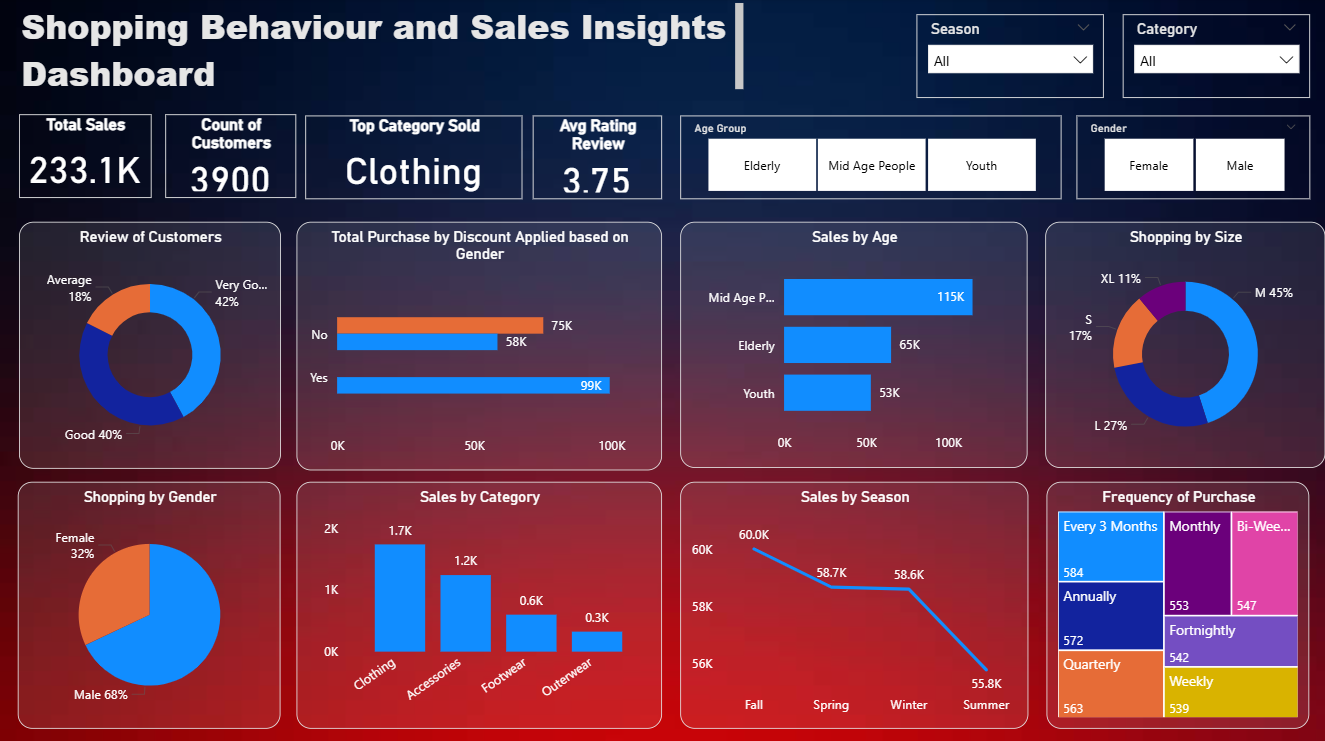

The dashboard page shown, as its layout file describes it:
{"tool":"powerbi","page":{"name":"Page 1","canvas":[1280,720],"ordinal":0},"visuals":[{"type":"pieChart","title":"Shopping by Gender","fields":{"Category":["shopping_behavior.Gender"],"Y":["CountNonNull(shopping_behavior.Customer ID)"]},"box":[17.8,466.6,253.9,238.8],"z":0},{"type":"columnChart","title":"Sales by Category","fields":{"Category":["shopping_behavior.Category"],"Y":["CountNonNull(shopping_behavior.Purchase Amount (USD))"]},"box":[286.8,466.6,352.7,238.8],"z":1000},{"type":"lineChart","title":"Sales by Season","fields":{"Category":["shopping_behavior.Season"],"Y":["Sum(shopping_behavior.Purchase Amount (USD))"]},"box":[657.3,466.6,336.2,238.8],"z":2000},{"type":"donutChart","title":"Review of Customers","fields":{"Category":["shopping_behavior.Review Group"],"Y":["CountNonNull(shopping_behavior.Customer ID)"]},"box":[19.2,215.4,252.5,238.8],"z":3000},{"type":"barChart","title":"Sales by Age","fields":{"Category":["shopping_behavior.Age Group"],"Y":["Sum(shopping_behavior.Purchase Amount (USD))"]},"box":[657.5,216,335.4,237.7],"z":4000},{"type":"slicer","fields":{"Values":["shopping_behavior.Category"]},"box":[1084.1,15.1,181.1,81],"z":5000},{"type":"slicer","fields":{"Values":["shopping_behavior.Gender"]},"box":[1040,113.4,225.6,80.8],"z":6000},{"type":"slicer","fields":{"Values":["shopping_behavior.Age Group"]},"box":[657.3,113.9,367.8,81],"z":7000},{"type":"card","title":"Count of Customers","fields":{"Values":["Count(shopping_behavior.Customer ID)"]},"box":[160.5,112.5,126.2,81],"z":8000},{"type":"card","title":"Total Sales","fields":{"Values":["Sum(shopping_behavior.Purchase Amount (USD))"]},"box":[19.2,112.5,127.6,81],"z":9000},{"type":"card","title":"Avg Rating Review","fields":{"Values":["Avg(shopping_behavior.Review Rating)"]},"box":[514.6,113.9,124.9,81],"z":10000},{"type":"card","title":"Top Category Sold","fields":{"Values":["shopping_behavior.Top Category"]},"box":[295,113.9,209.9,81],"z":11000},{"type":"textbox","box":[16.5,0,706.7,96.1],"z":12000},{"type":"clusteredBarChart","title":"Total Purchase by Discount Applied based on Gender","fields":{"Category":["shopping_behavior.Discount Applied"],"Series":["shopping_behavior.Gender"],"Y":["Sum(shopping_behavior.Purchase Amount (USD))"]},"box":[286.8,215.4,352.7,240.1],"z":13000},{"type":"slicer","fields":{"Values":["shopping_behavior.Season"]},"box":[885.1,15.1,181.1,81],"z":14000},{"type":"donutChart","title":"Shopping by Size","fields":{"Category":["shopping_behavior.Size"],"Y":["CountNonNull(shopping_behavior.Customer ID)"]},"box":[1009.8,216,270.2,237.7],"z":15000},{"type":"treemap","title":"Frequency of Purchase","fields":{"Group":["shopping_behavior.Frequency of Purchases"],"Values":["CountNonNull(shopping_behavior.Customer ID)"]},"box":[1011.3,466.6,253.9,238.8],"z":16000}]}

Visuals, with their boxes in screenshot pixels (x1, y1, x2, y2), scaled from the page's 1280x720 canvas onto the 1325x741 screenshot:
"Shopping by Gender" pieChart: bbox(18, 480, 281, 726)
"Sales by Category" columnChart: bbox(297, 480, 662, 726)
"Sales by Season" lineChart: bbox(680, 480, 1028, 726)
"Review of Customers" donutChart: bbox(20, 222, 281, 467)
"Sales by Age" barChart: bbox(681, 222, 1028, 467)
slicer - shopping_behavior.Category: bbox(1122, 16, 1310, 99)
slicer - shopping_behavior.Gender: bbox(1077, 117, 1310, 200)
slicer - shopping_behavior.Age Group: bbox(680, 117, 1061, 201)
"Count of Customers" card: bbox(166, 116, 297, 199)
"Total Sales" card: bbox(20, 116, 152, 199)
"Avg Rating Review" card: bbox(533, 117, 662, 201)
"Top Category Sold" card: bbox(305, 117, 523, 201)
textbox: bbox(17, 0, 749, 99)
"Total Purchase by Discount Applied based on Gender" clusteredBarChart: bbox(297, 222, 662, 469)
slicer - shopping_behavior.Season: bbox(916, 16, 1104, 99)
"Shopping by Size" donutChart: bbox(1045, 222, 1324, 467)
"Frequency of Purchase" treemap: bbox(1047, 480, 1310, 726)
